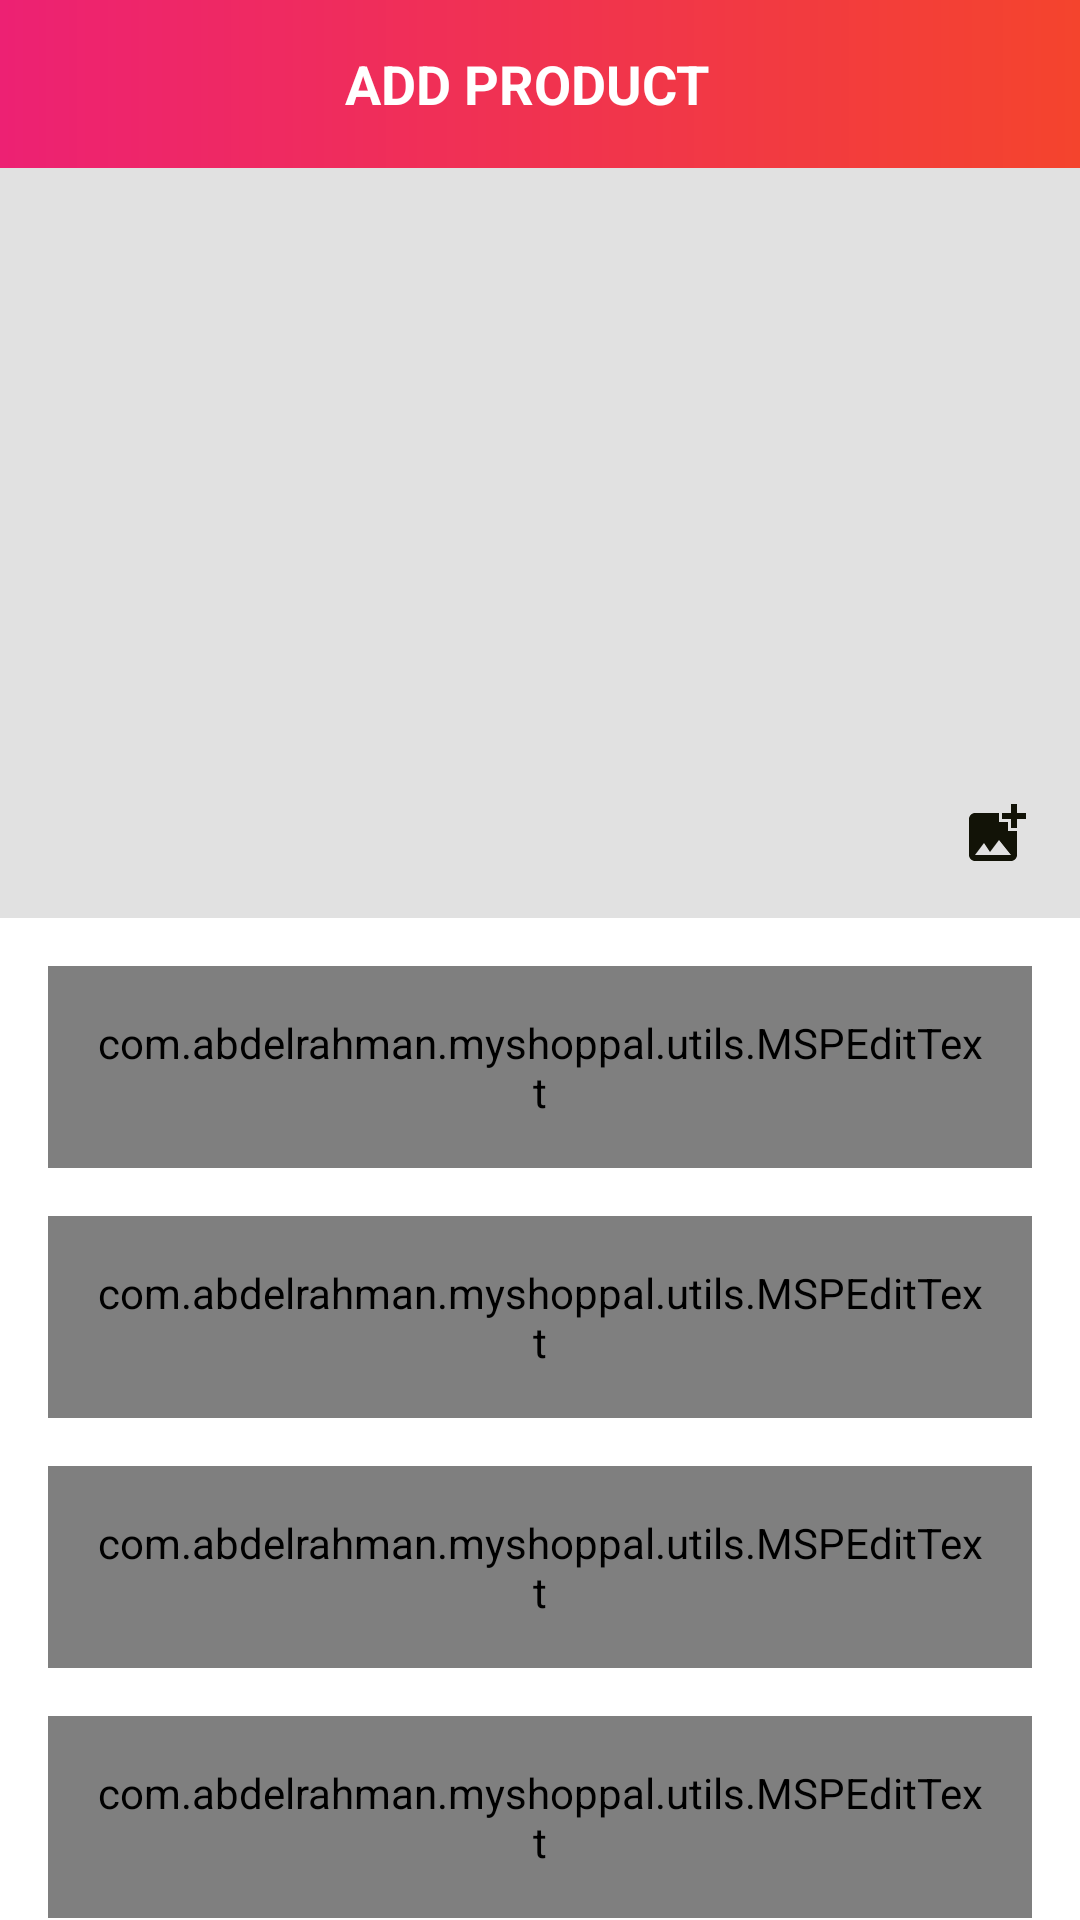

Icon click points for this 1080 × 1920 phone screenshot, format (x=x, y=y):
add photo: (x=997, y=832)
